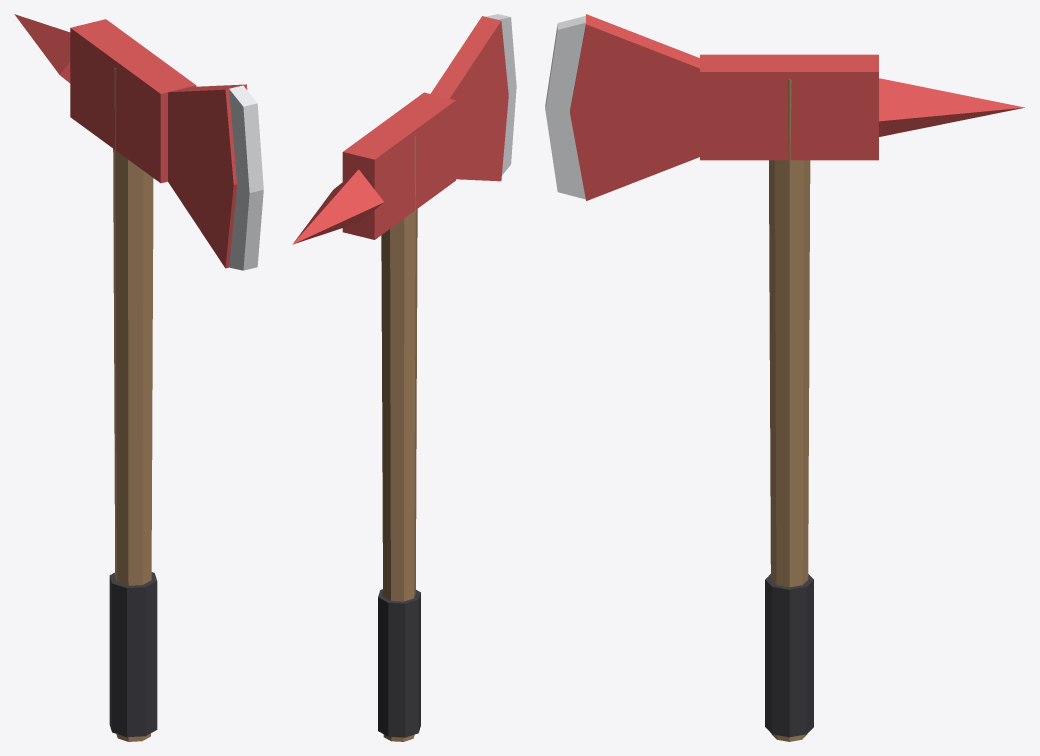
The model's file is HJ_Hacha.fbx.
3 views of the same model, side by side, from view 1: azimuth 30°, elevation 25°; view 2: azimuth 150°, elevation 25°; view 3: azimuth 270°, elevation 25° (orthographic). The views are drawn at different scales.
Visible parts, largest first — view 1: HJ_Hacha; view 2: HJ_Hacha; view 3: HJ_Hacha.
Part boxes in pixels (x1=…): HJ_Hacha: x1=14, y1=14, x2=263, y2=741; HJ_Hacha: x1=292, y1=14, x2=516, y2=741; HJ_Hacha: x1=545, y1=14, x2=1024, y2=741.
Bounding box in the file's own units: 0.08 × 0.97 × 0.59.
